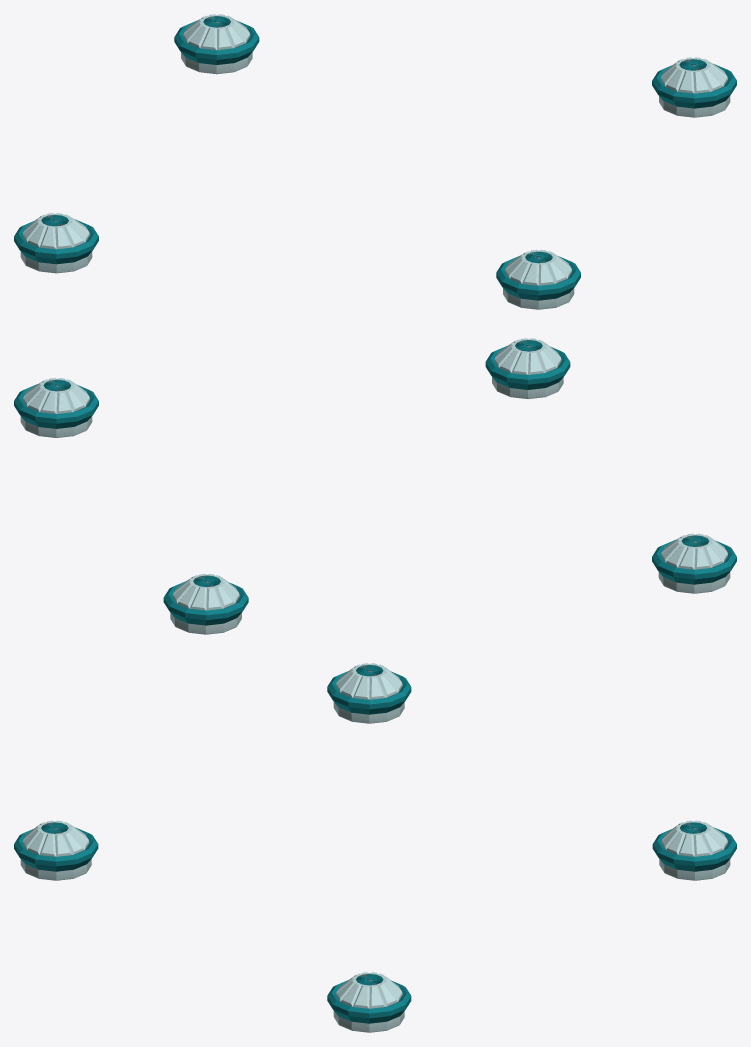
The model's file is Walking on Sunshine Final.FBX.
3 views of the same model, one above another, from view 1: azimuth 30°, elevation 25°; view 2: azimuth 150°, elevation 25°; view 3: azimuth 270°, elevation 25° (orthographic).
Parts seen in each view (by area): view 1: Propulsor001, Propulsor002, Propulsor004, Propulsor005; view 2: Propulsor005, Propulsor004, Propulsor001, Propulsor002; view 3: Propulsor001, Propulsor002, Propulsor005, Propulsor004.
Boxes of the visible parts, <box> form: Propulsor001: <box>14,213,98,273</box>; Propulsor002: <box>652,57,736,117</box>; Propulsor004: <box>174,14,259,74</box>; Propulsor005: <box>496,249,580,309</box>; Propulsor005: <box>485,338,570,398</box>; Propulsor004: <box>163,573,248,634</box>; Propulsor001: <box>652,533,736,593</box>; Propulsor002: <box>14,378,98,437</box>; Propulsor001: <box>327,663,411,723</box>; Propulsor002: <box>327,972,411,1032</box>; Propulsor005: <box>14,820,98,880</box>; Propulsor004: <box>652,820,736,880</box>.
Bounding box in the file's own units: 77.96 × 4.05 × 69.12.
